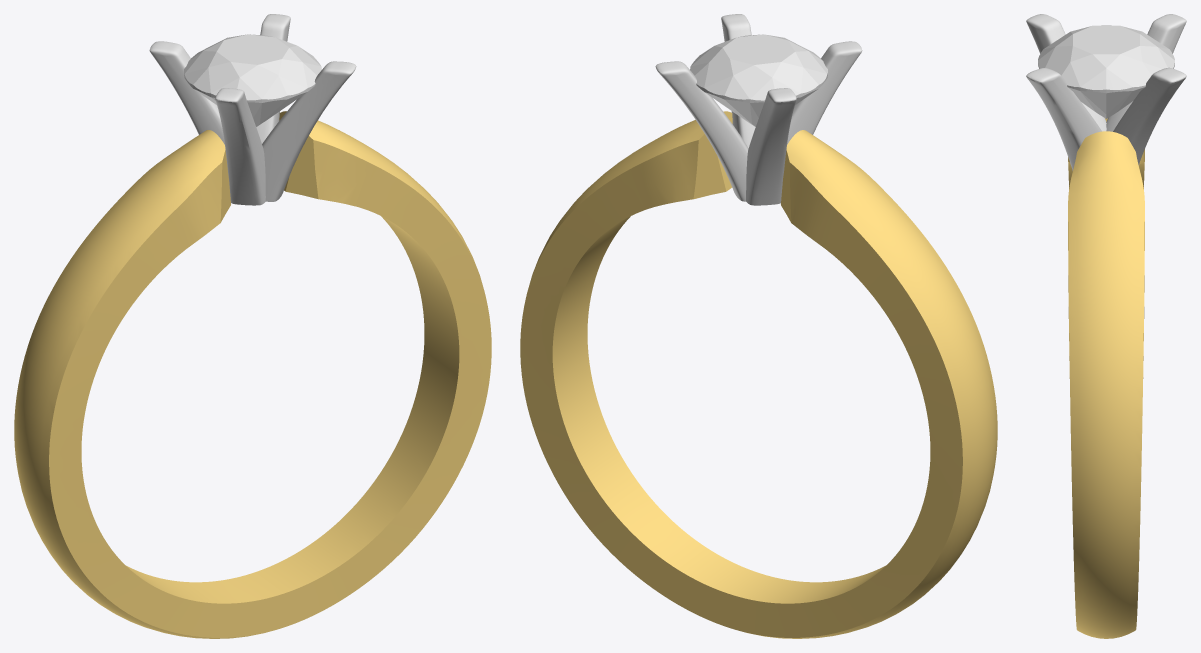
File: Jennylower_blender.glb
3 views of the same model, side by side, from view 1: azimuth 30°, elevation 25°; view 2: azimuth 150°, elevation 25°; view 3: azimuth 270°, elevation 25° (orthographic).
Parts seen in each view (by area): view 1: Jenny YG for 3d model, Jenny lower PT for 3d model, Jenny lower dia for 3d model; view 2: Jenny YG for 3d model, Jenny lower PT for 3d model, Jenny lower dia for 3d model; view 3: Jenny YG for 3d model, Jenny lower PT for 3d model, Jenny lower dia for 3d model.
Part boxes in pixels (x1,y1,x2,y2): Jenny YG for 3d model: (14, 111, 491, 638); Jenny lower PT for 3d model: (149, 14, 356, 205); Jenny lower dia for 3d model: (184, 34, 321, 126); Jenny YG for 3d model: (520, 111, 997, 638); Jenny lower PT for 3d model: (655, 14, 862, 205); Jenny lower dia for 3d model: (690, 34, 827, 126); Jenny YG for 3d model: (1068, 118, 1144, 638); Jenny lower PT for 3d model: (1026, 14, 1186, 170); Jenny lower dia for 3d model: (1038, 25, 1174, 118).
Bounding box in the file's own units: 20.52 × 24.83 × 6.27.
